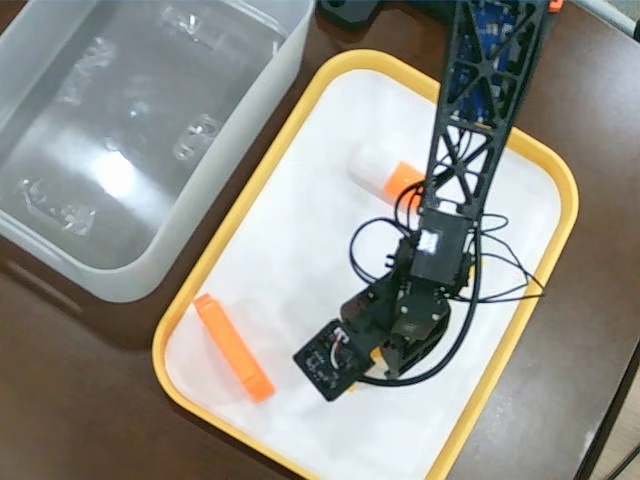pill: (350, 142, 423, 208)
